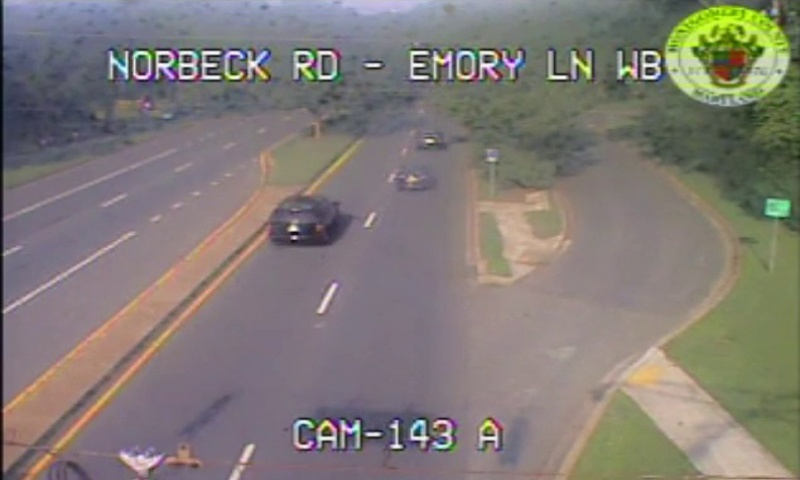car: (270, 197, 335, 244), (393, 165, 434, 190)
